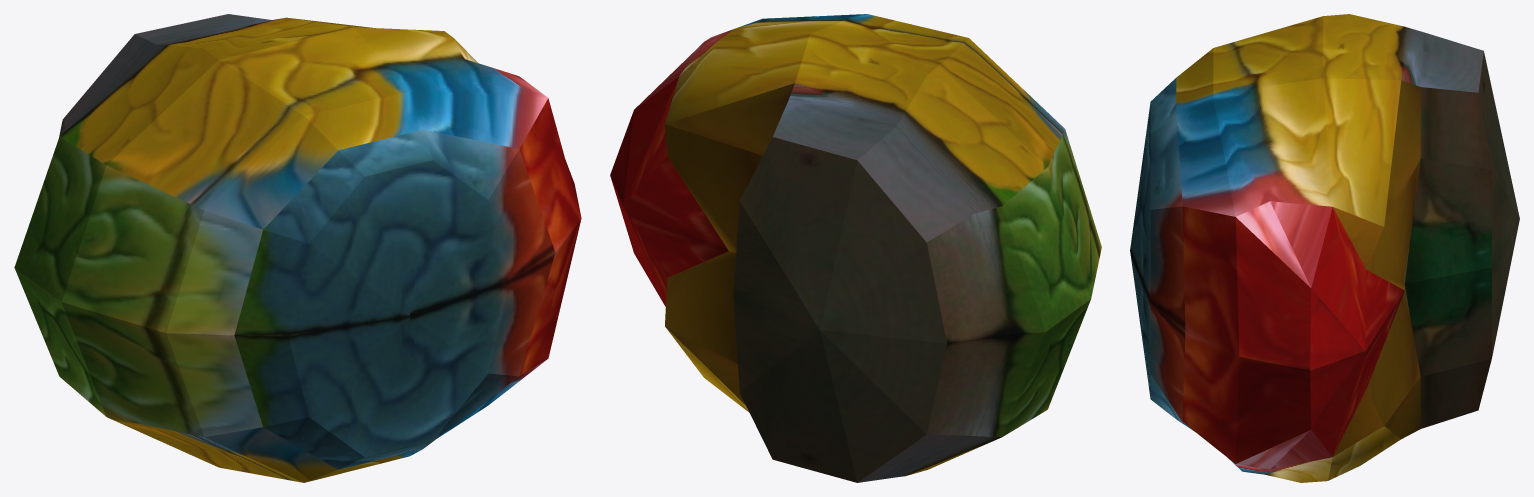
The model's file is brainV8AlignedWithMegSensorLayout.obj.
The picture shows the model from 3 angles, left to right: view 1: azimuth 30°, elevation 25°; view 2: azimuth 150°, elevation 25°; view 3: azimuth 270°, elevation 25°; orthographic projection. The views are drawn at different scales.
Parts seen in each view (by area): view 1: polySurface4; view 2: polySurface4; view 3: polySurface4.
Part boxes in pixels (<box>): polySurface4: <box>14,14,581,482</box>; polySurface4: <box>610,14,1101,482</box>; polySurface4: <box>1130,14,1519,482</box>.
Size of the model in its own units: 16.97 by 13.15 by 11.94.
1 material, 1 textured.
